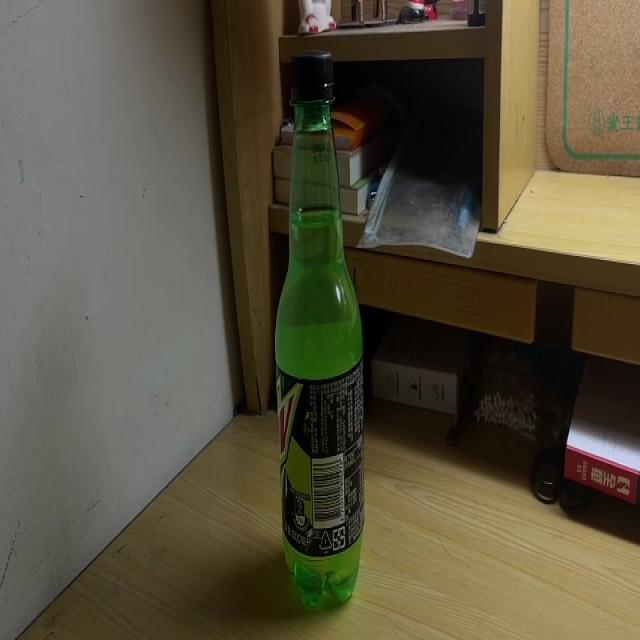Mountain-Dew: (274, 49, 367, 611)
